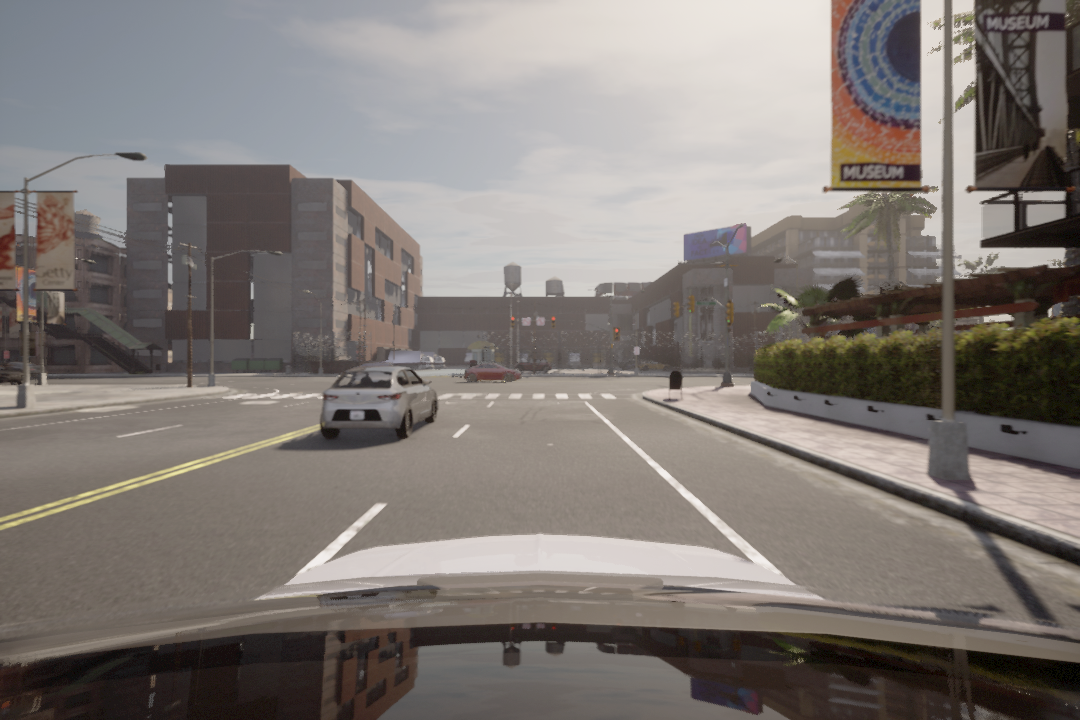walkside: (230, 384, 627, 411)
